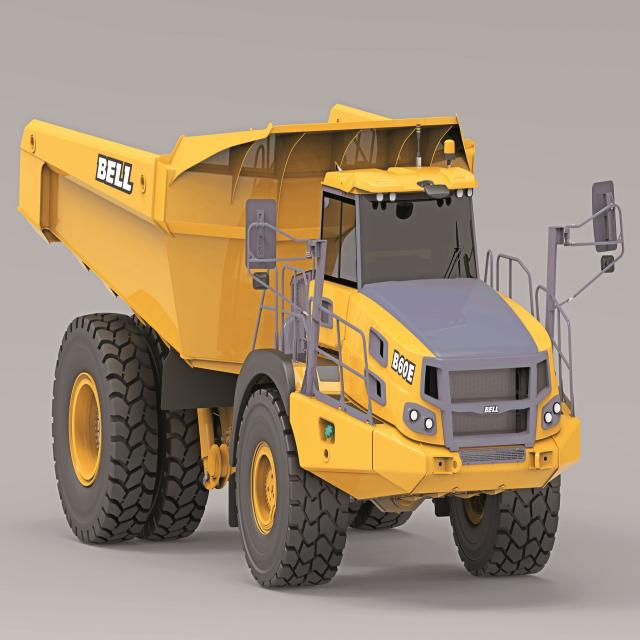dump_truck: (15, 94, 583, 582)
